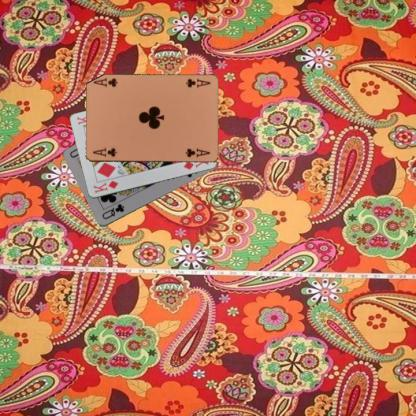Ac: (183, 76, 212, 89), (90, 146, 118, 158)
Kd: (90, 178, 119, 195)
Qc: (100, 201, 126, 221)
